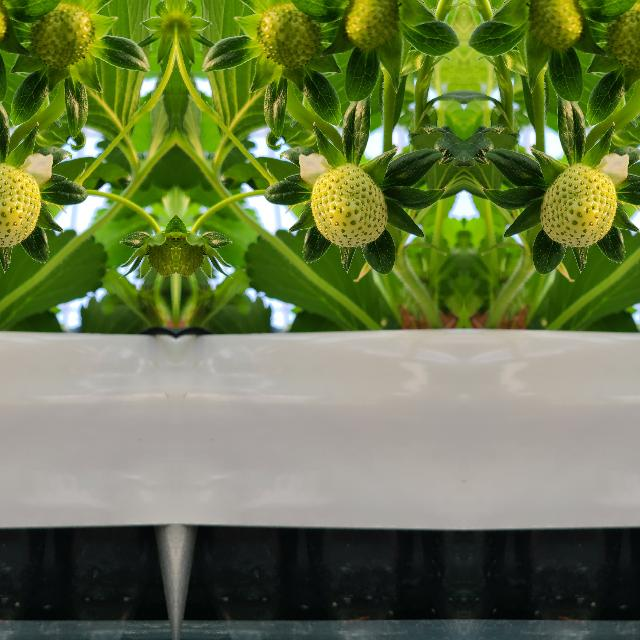Health_25: (308, 162, 388, 248), (538, 162, 618, 248), (0, 162, 41, 248)
